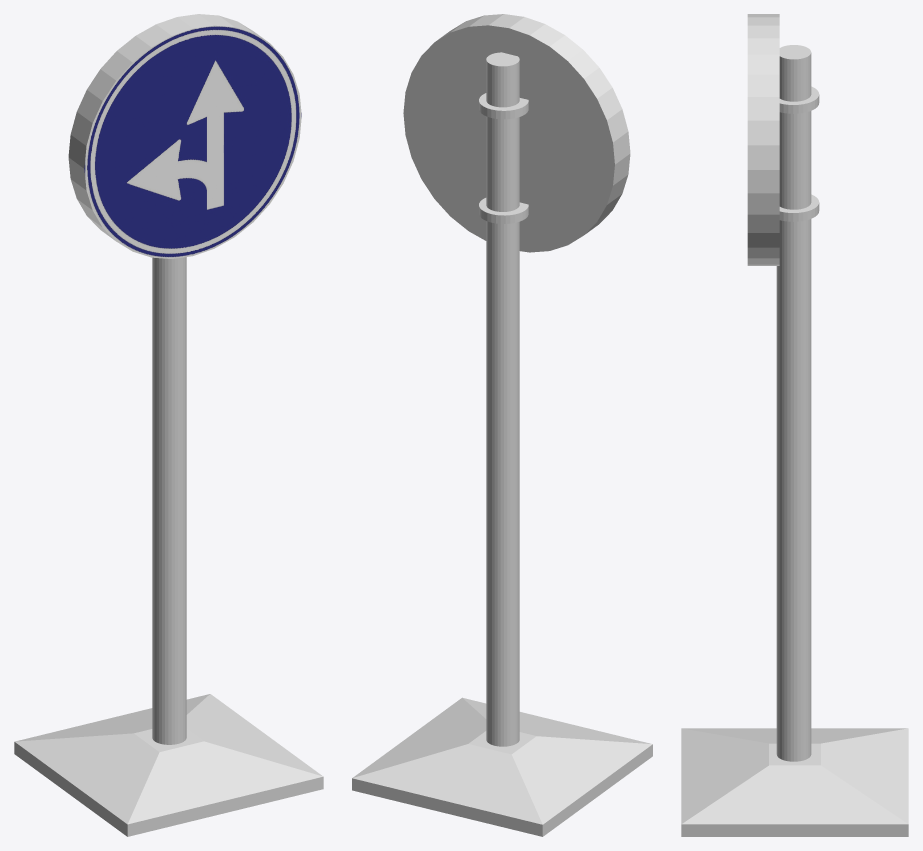
Rendered from ileri_sol.dae.
3 views of the same model, side by side, from view 1: azimuth 30°, elevation 25°; view 2: azimuth 150°, elevation 25°; view 3: azimuth 270°, elevation 25° (orthographic). The views are drawn at different scales.
Visible parts, largest first — view 1: Cylinder; view 2: Cylinder; view 3: Cylinder.
Part boxes in pixels (left/top/right/bottom): Cylinder: left=14, top=14, right=323, bottom=836; Cylinder: left=352, top=14, right=652, bottom=836; Cylinder: left=681, top=14, right=908, bottom=836.
Size of the model in its own units: 0.83 by 0.7483 by 2.77.
Materials: 3 (1 with a texture image).
